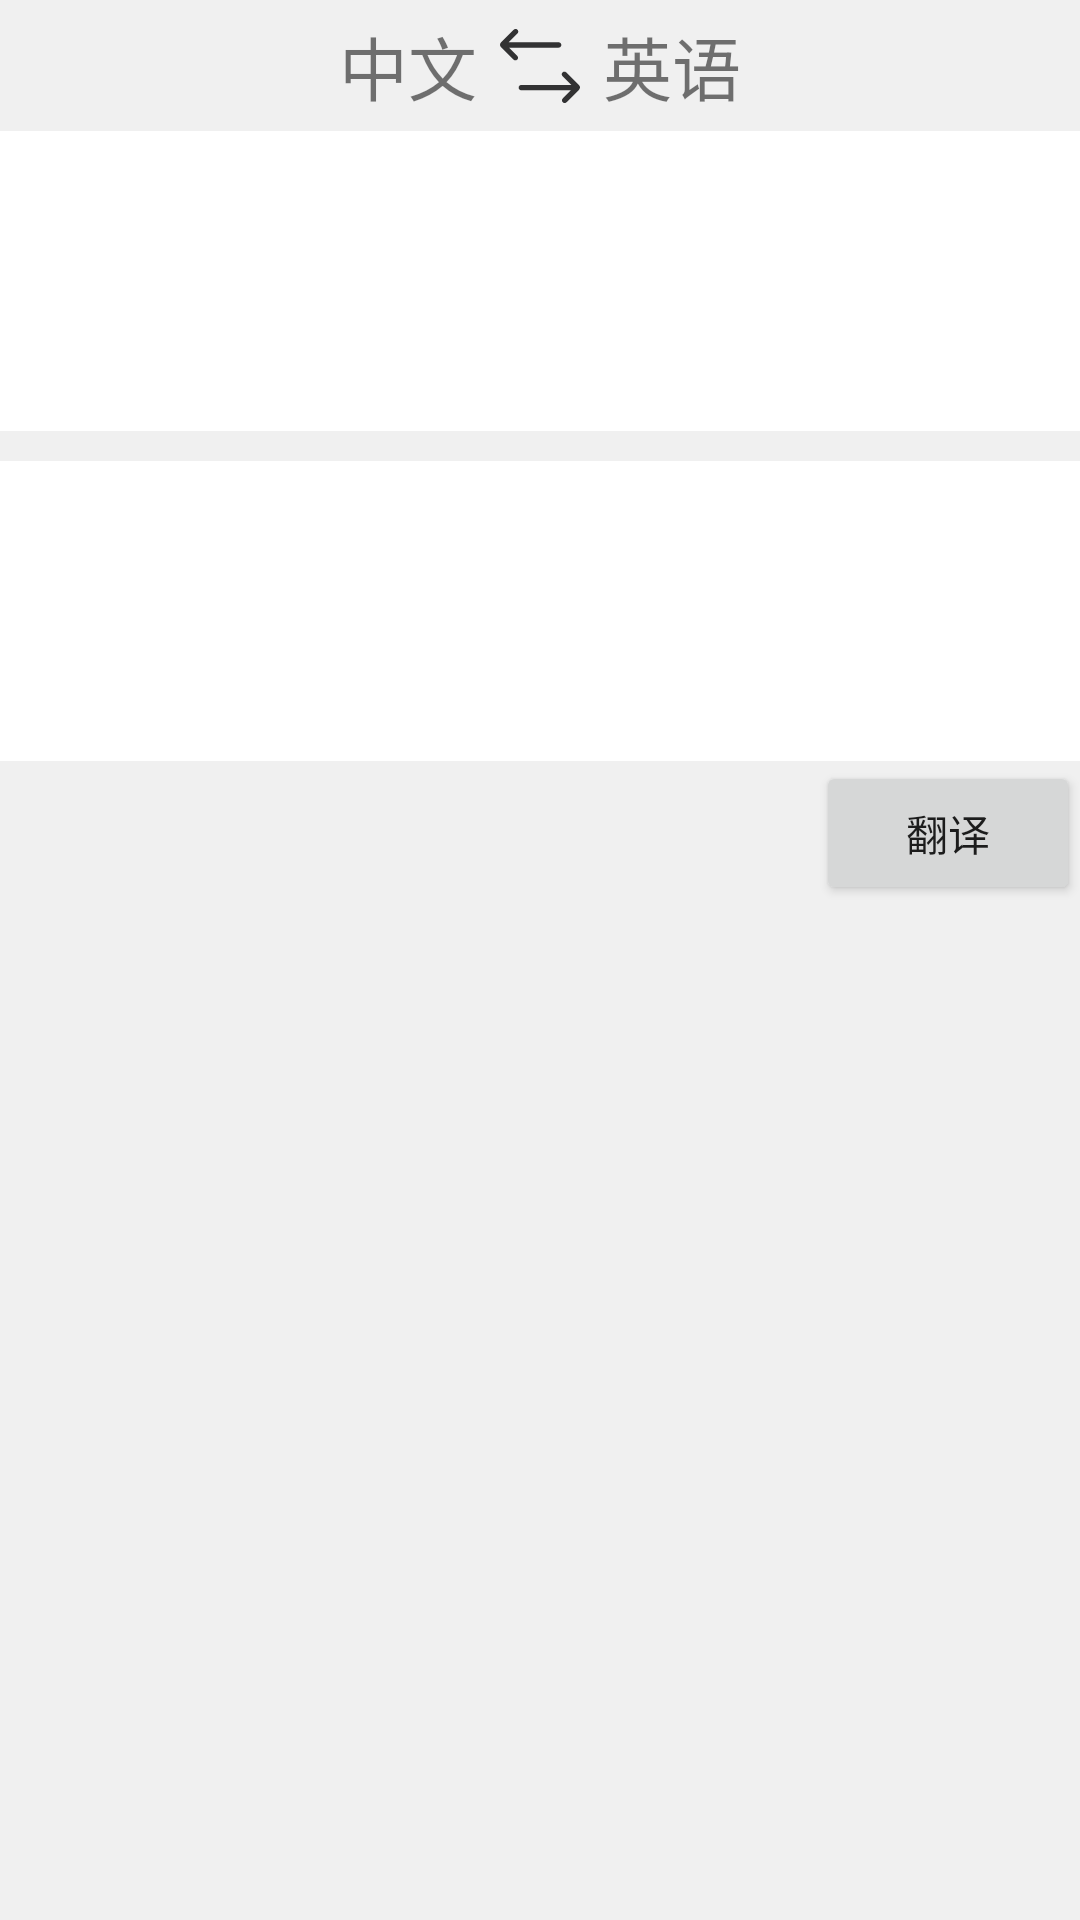

Locate icon controls on the screen. Image size 1080x1920, boxes as bbox(x1, y1, x2, y2).
exchange: bbox(500, 29, 580, 103)
